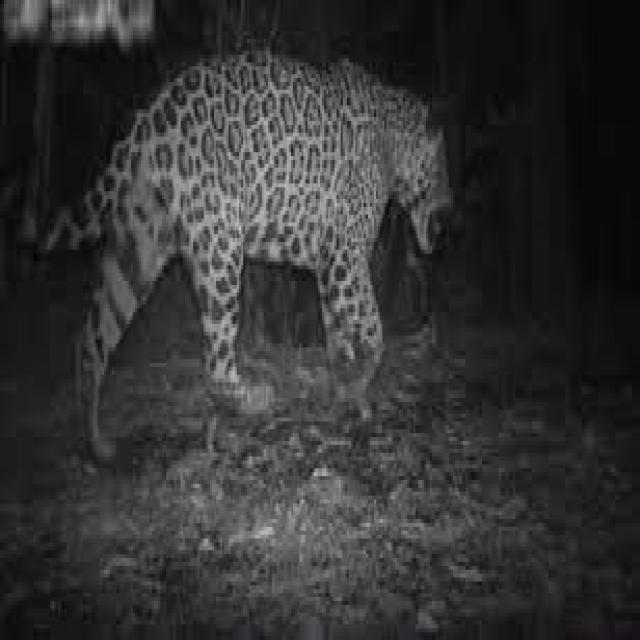Jaguar: (33, 51, 455, 425)
